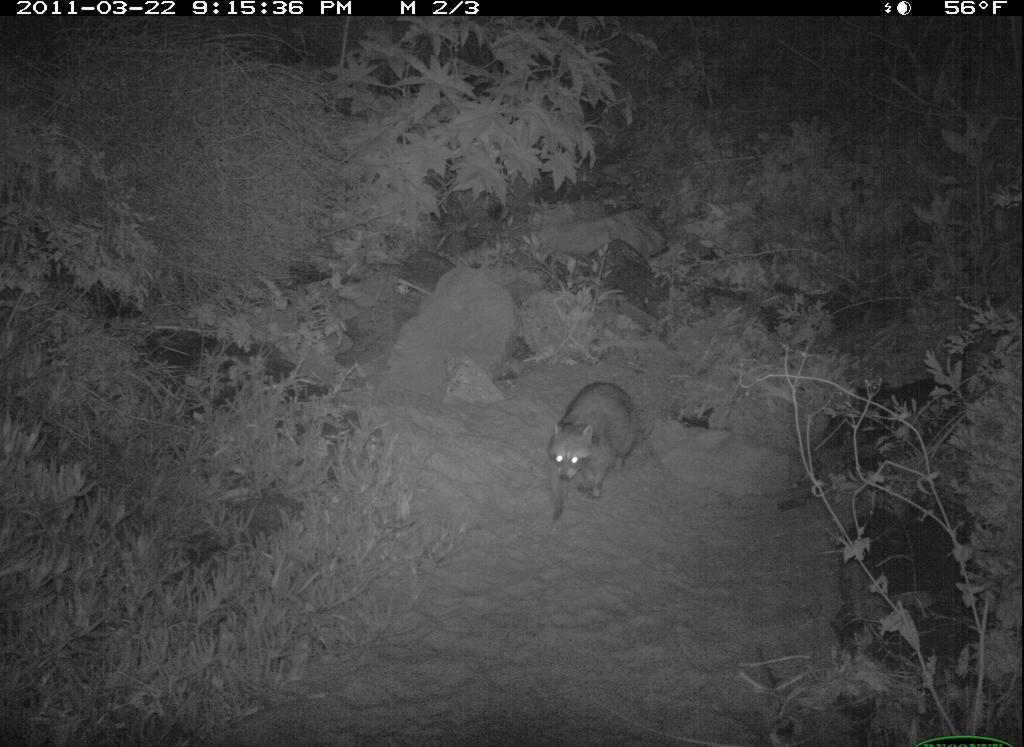raccoon: (530, 378, 671, 533)
